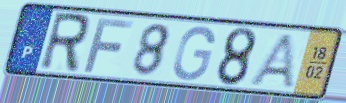8: (215, 26, 259, 89), (130, 21, 173, 78)
A: (247, 32, 297, 91)
F: (81, 16, 136, 75)
G: (171, 24, 217, 83)
R: (36, 11, 93, 76)
